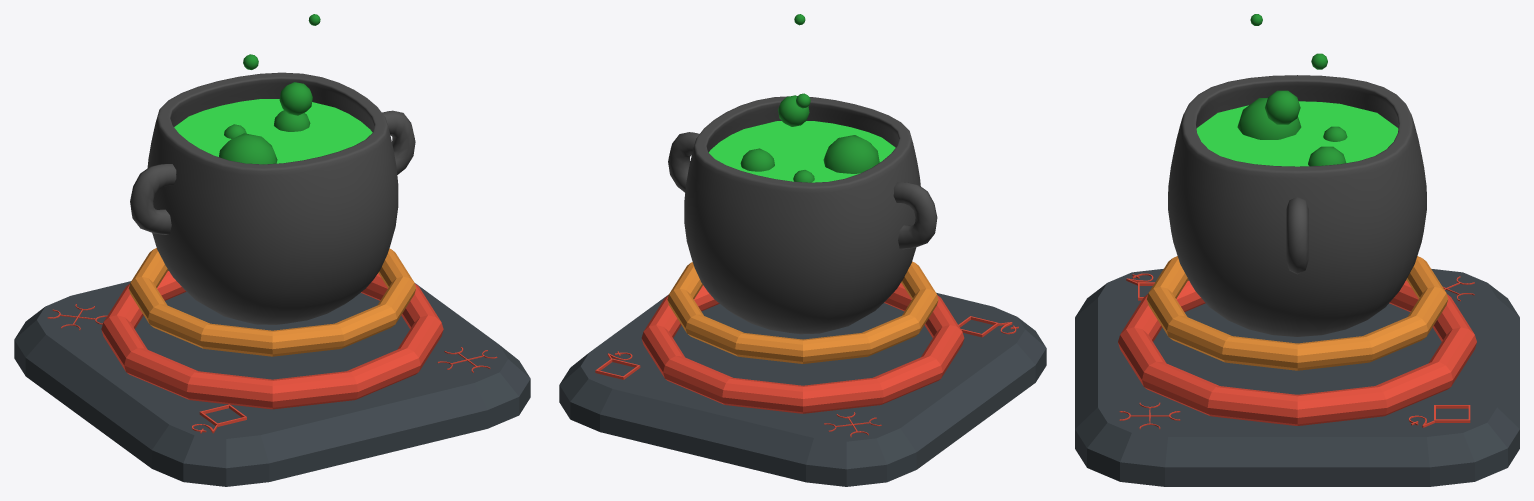
File: Cauldron.fbx
3 renders of one model, left to right at view 1: azimuth 30°, elevation 25°; view 2: azimuth 150°, elevation 25°; view 3: azimuth 270°, elevation 25°, orthographic. The views are drawn at different scales.
Visible parts, largest first — view 1: Cauldron; view 2: Cauldron; view 3: Cauldron.
Part boxes in pixels (x1=…): Cauldron: x1=14, y1=14, x2=530, y2=486; Cauldron: x1=559, y1=14, x2=1046, y2=486; Cauldron: x1=1075, y1=14, x2=1519, y2=486.
Bounding box in the file's own units: 136 × 132 × 136.
